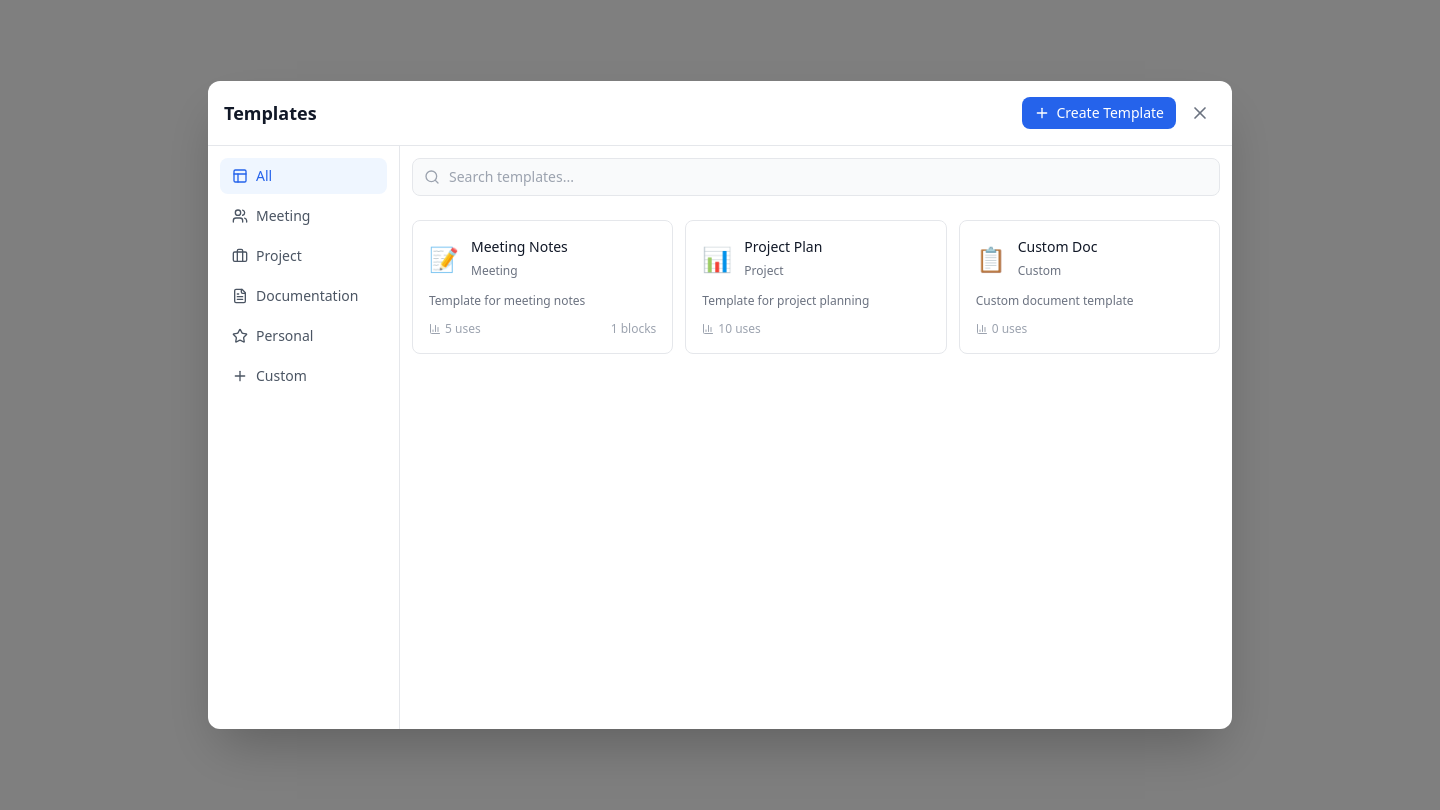
Test: TemplateGallery › filters by search
Step 1. Type "project" into the field with placeholder "Search templates..." → (816, 177), box x1=412 y1=158 x2=1220 y2=196
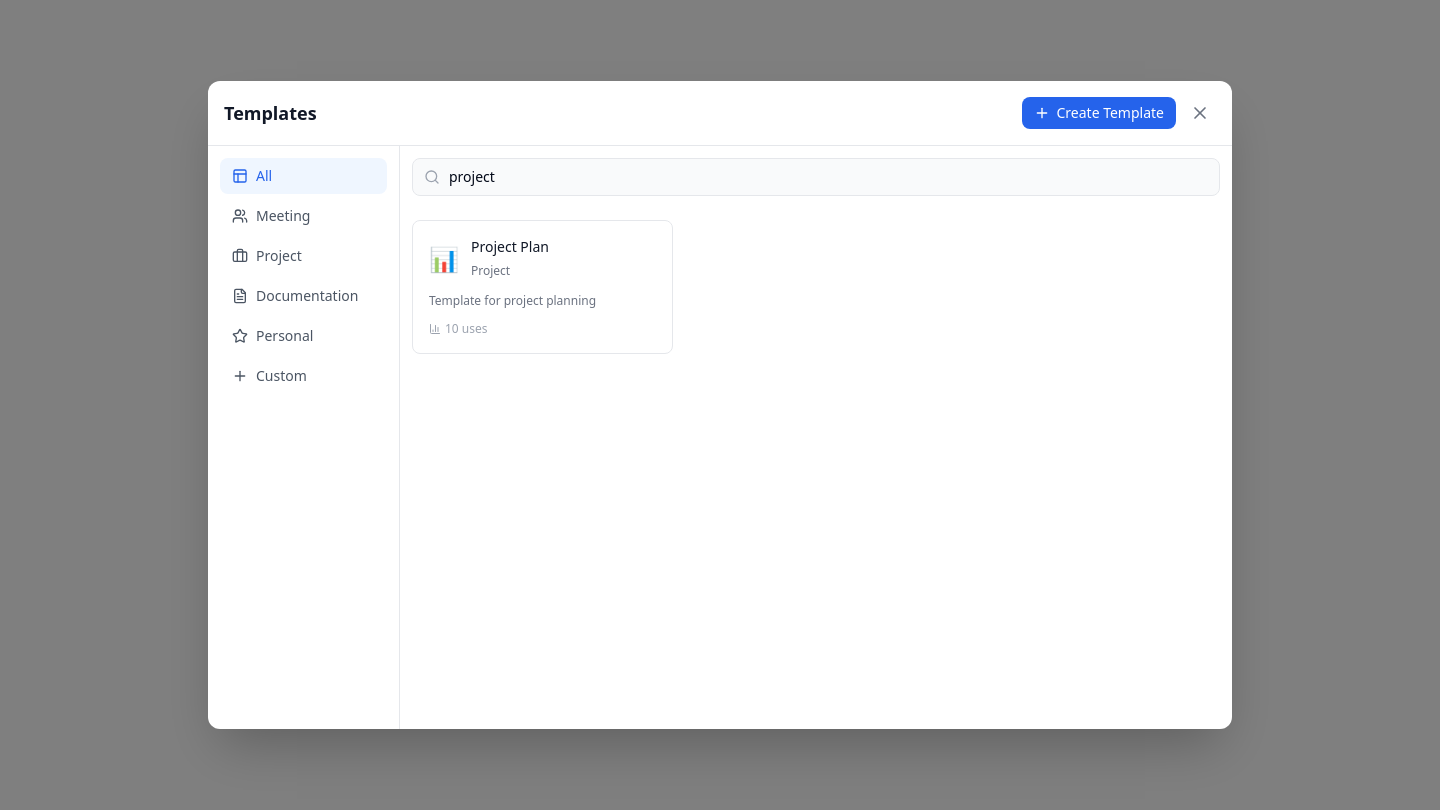
Expected: the heading "Project Plan" is shown, x1=471 y1=237 x2=549 y2=256
Result: the heading "Meeting Notes" is gone
